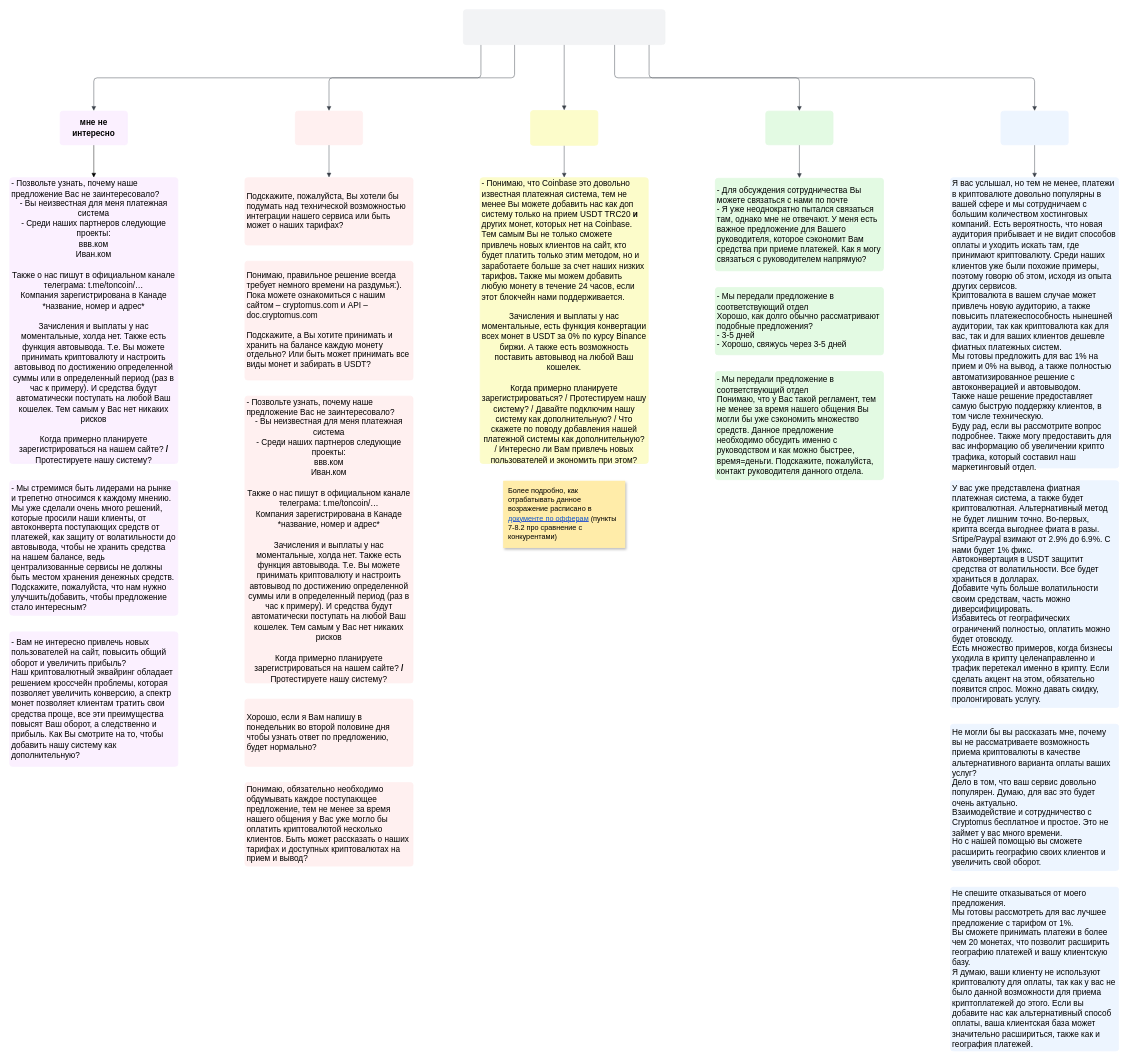
Image size: 1129x1061. Some labels were removed from this diagram. The centre of each missing label's shape, as x and y in pixels:
Мы передадим: (x=799, y=127)
нам не нужна крипта: (x=1034, y=127)
не интересно/ есть свое решение: (x=564, y=127)
отработка возражений: (x=564, y=27)
я подумаю: (x=329, y=127)
